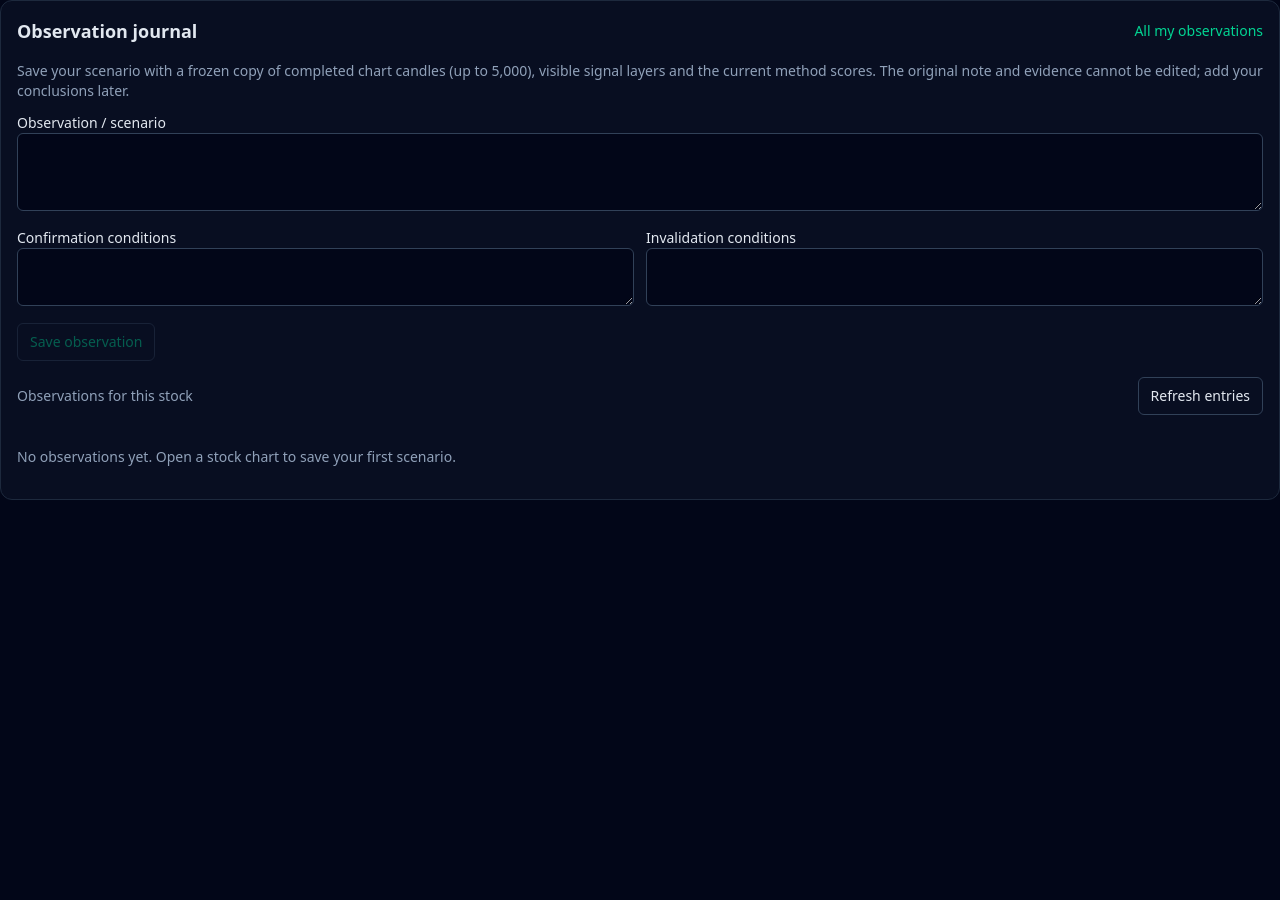
Test case: private observation journal › keeps the form and reuses the same snapshot ID after an uncertain save
The image size is (1280, 900).
Expected: the text "No observations yet" is shown, [17,447,456,466]
In the text box labelled "Observation / scenario": (640, 172) [17,133,1263,211], type "Test retry"
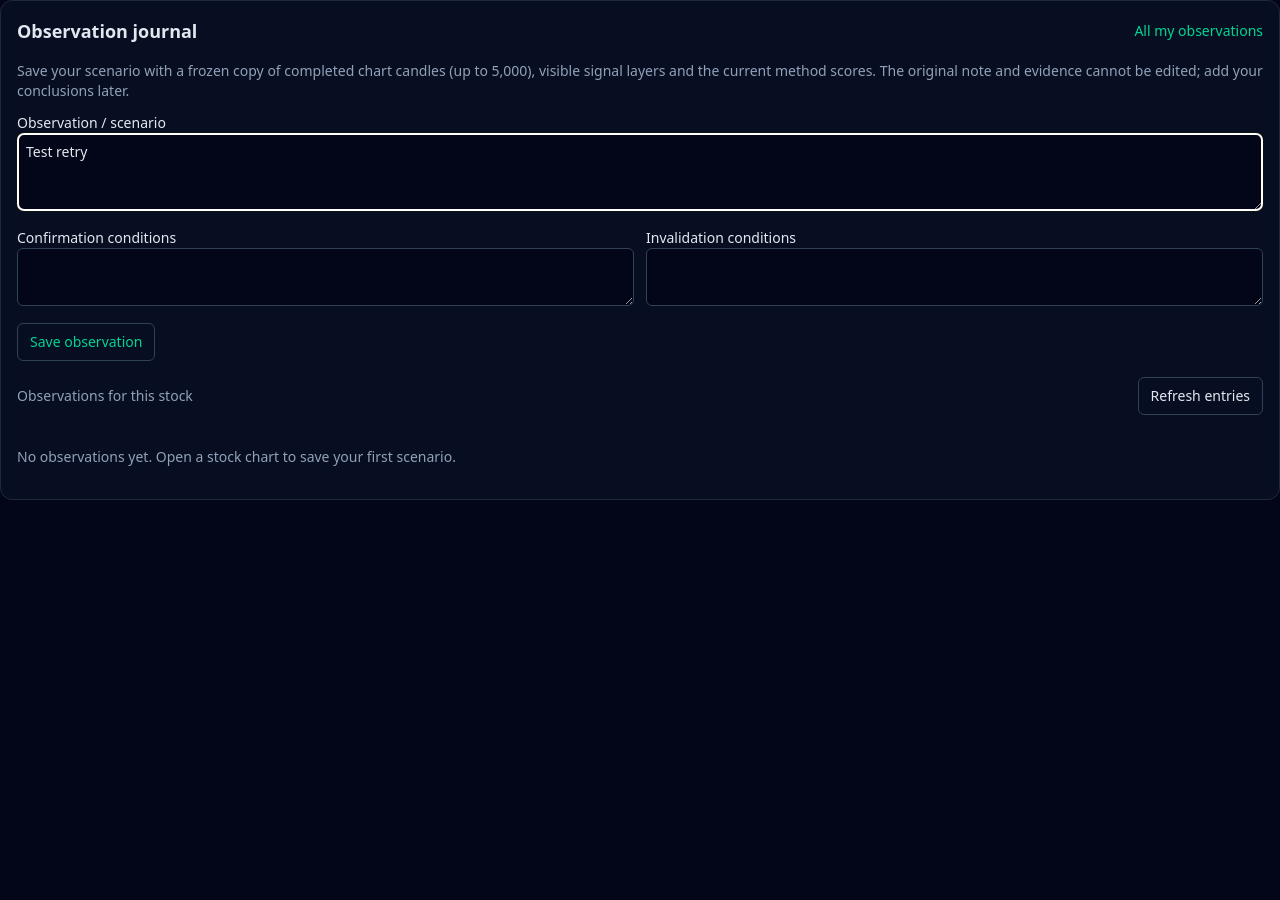
Click the button "Save observation": (86, 342) [17,323,155,361]
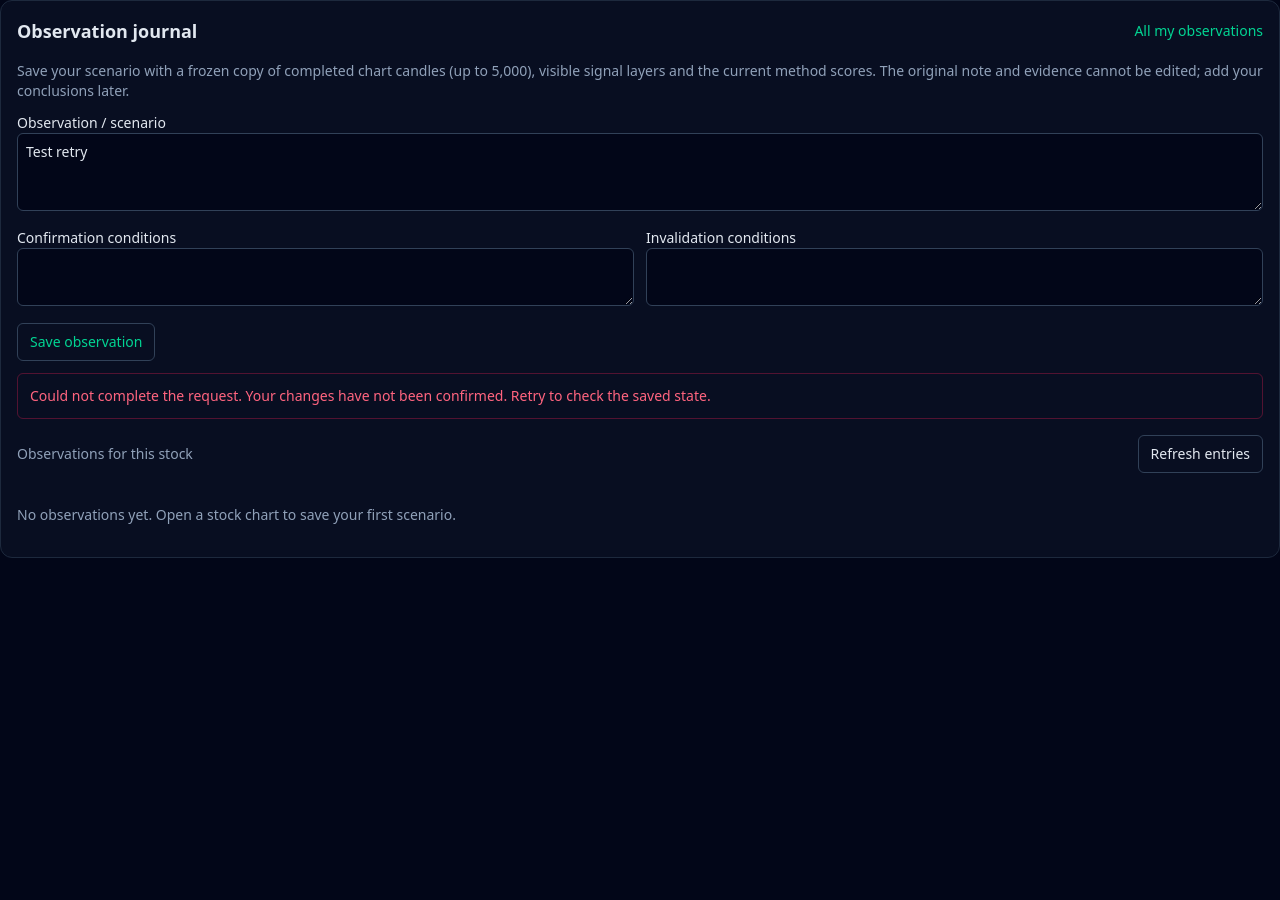
Expected: the text "Observation saved to your account." is not shown
Result: the message is shown at [17,373,1263,419]
Click the button "Save observation": (86, 342) [17,323,155,361]
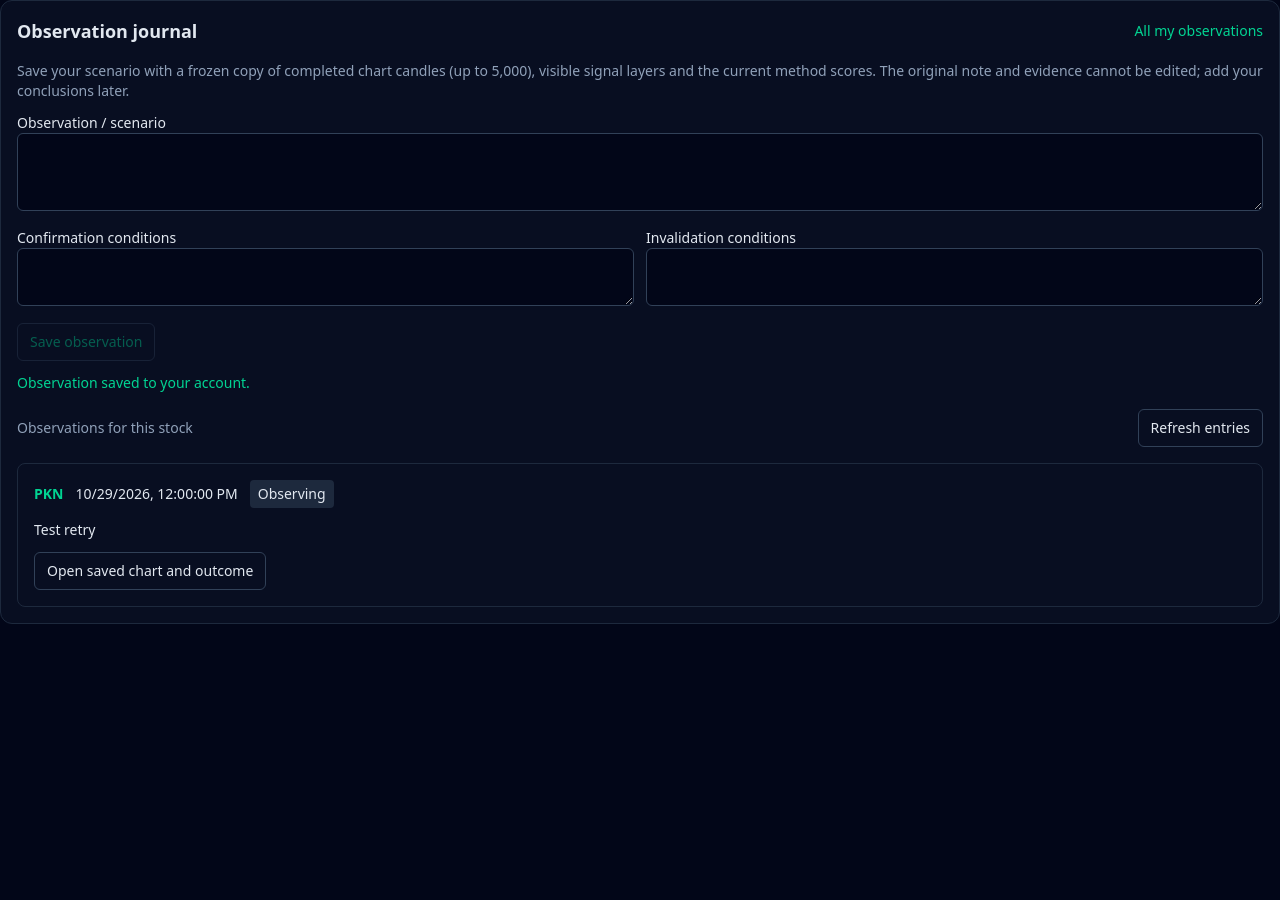
Result: the text "Observation saved to your account." is shown at [17,373,250,392]
